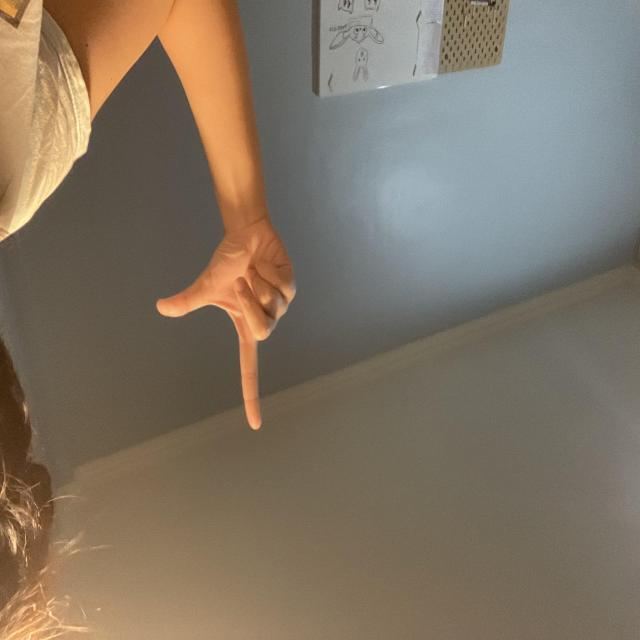L: (344, 210, 484, 421)
